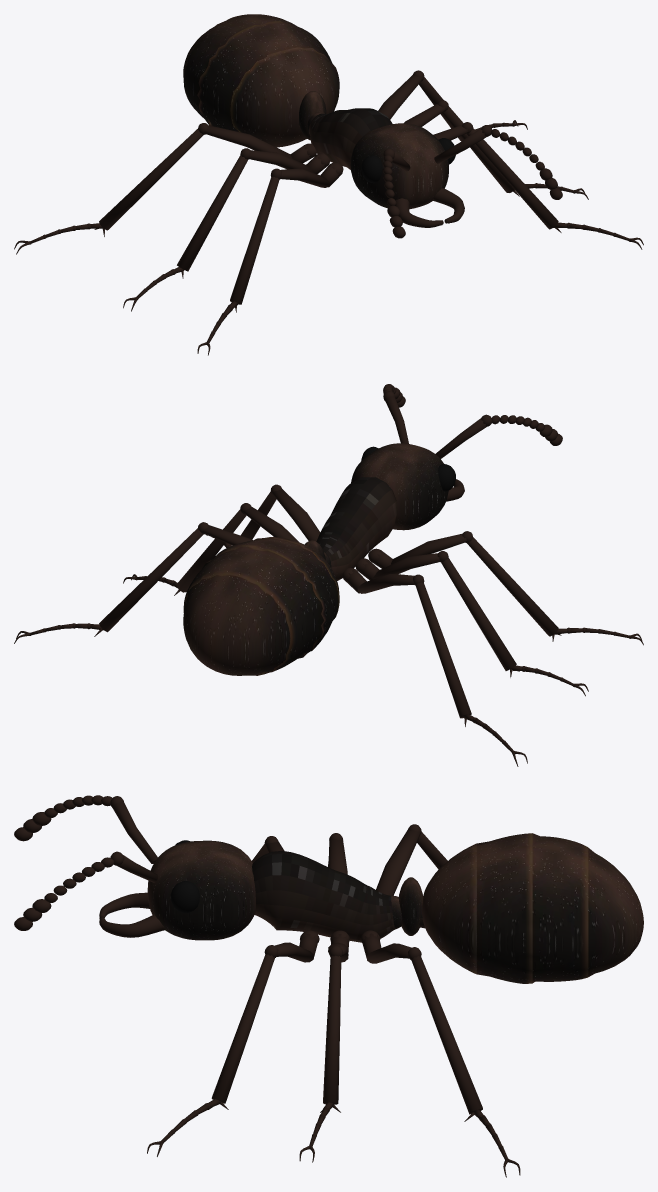
File: bug_ant.glb
3 views of the same model, one above another, from view 1: azimuth 30°, elevation 25°; view 2: azimuth 150°, elevation 25°; view 3: azimuth 270°, elevation 25° (orthographic). The views are drawn at different scales.
Visible parts, largest first — view 1: gaster, head_shell, thorax, leg_2_R_mesh, leg_1_R_mesh, leg_0_R_mesh, leg_0_L_mesh, ant_L_mesh, leg_1_L_mesh, leg_2_L_mesh, mandibles, ant_R_mesh (+1 smaller); view 2: gaster, thorax, head_shell, leg_2_R_mesh, leg_0_R_mesh, leg_1_R_mesh, leg_2_L_mesh, leg_1_L_mesh, leg_0_L_mesh, ant_R_mesh, ant_L_mesh; view 3: gaster, thorax, head_shell, leg_2_L_mesh, leg_0_L_mesh, leg_1_L_mesh, ant_R_mesh, ant_L_mesh, leg_2_R_mesh, mandibles, eyes, leg_1_R_mesh.
Boxes of the visible parts, x1=… form: gaster: x1=183, y1=14, x2=339, y2=147; head_shell: x1=350, y1=123, x2=448, y2=209; thorax: x1=298, y1=91, x2=392, y2=169; leg_2_R_mesh: x1=14, y1=123, x2=316, y2=254; leg_1_R_mesh: x1=123, y1=148, x2=330, y2=311; leg_0_R_mesh: x1=197, y1=162, x2=343, y2=355; leg_0_L_mesh: x1=433, y1=122, x2=643, y2=249; ant_L_mesh: x1=434, y1=125, x2=562, y2=199; leg_1_L_mesh: x1=404, y1=100, x2=588, y2=199; leg_2_L_mesh: x1=378, y1=70, x2=527, y2=141; mandibles: x1=395, y1=188, x2=464, y2=227; ant_R_mesh: x1=383, y1=148, x2=410, y2=238; gaster: x1=183, y1=537, x2=339, y2=675; thorax: x1=305, y1=477, x2=396, y2=580; head_shell: x1=351, y1=443, x2=448, y2=530; leg_2_R_mesh: x1=342, y1=567, x2=527, y2=766; leg_0_R_mesh: x1=368, y1=531, x2=643, y2=645; leg_1_R_mesh: x1=355, y1=551, x2=588, y2=696; leg_2_L_mesh: x1=14, y1=522, x2=252, y2=643; leg_1_L_mesh: x1=123, y1=503, x2=298, y2=595; leg_0_L_mesh: x1=204, y1=484, x2=320, y2=548; ant_R_mesh: x1=435, y1=414, x2=562, y2=458; ant_L_mesh: x1=383, y1=384, x2=408, y2=443; gaster: x1=422, y1=833, x2=643, y2=983; thorax: x1=252, y1=851, x2=424, y2=942; head_shell: x1=147, y1=840, x2=255, y2=940; leg_2_L_mesh: x1=360, y1=930, x2=520, y2=1177; leg_0_L_mesh: x1=147, y1=930, x2=319, y2=1156; leg_1_L_mesh: x1=299, y1=930, x2=349, y2=1162; ant_R_mesh: x1=14, y1=795, x2=157, y2=863; ant_L_mesh: x1=14, y1=851, x2=157, y2=930; leg_2_R_mesh: x1=376, y1=824, x2=447, y2=895; mandibles: x1=99, y1=892, x2=165, y2=937; eyes: x1=170, y1=840, x2=199, y2=913; leg_1_R_mesh: x1=328, y1=833, x2=347, y2=874.
Size of the model in its own units: 1.37 by 0.4509 by 1.24.
Materials: 4 (2 with a texture image).
